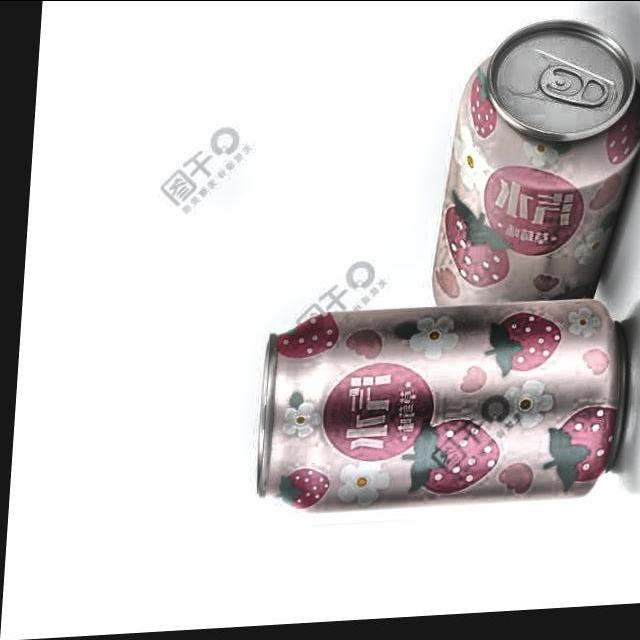litter: (244, 294, 636, 527), (418, 12, 640, 350)
